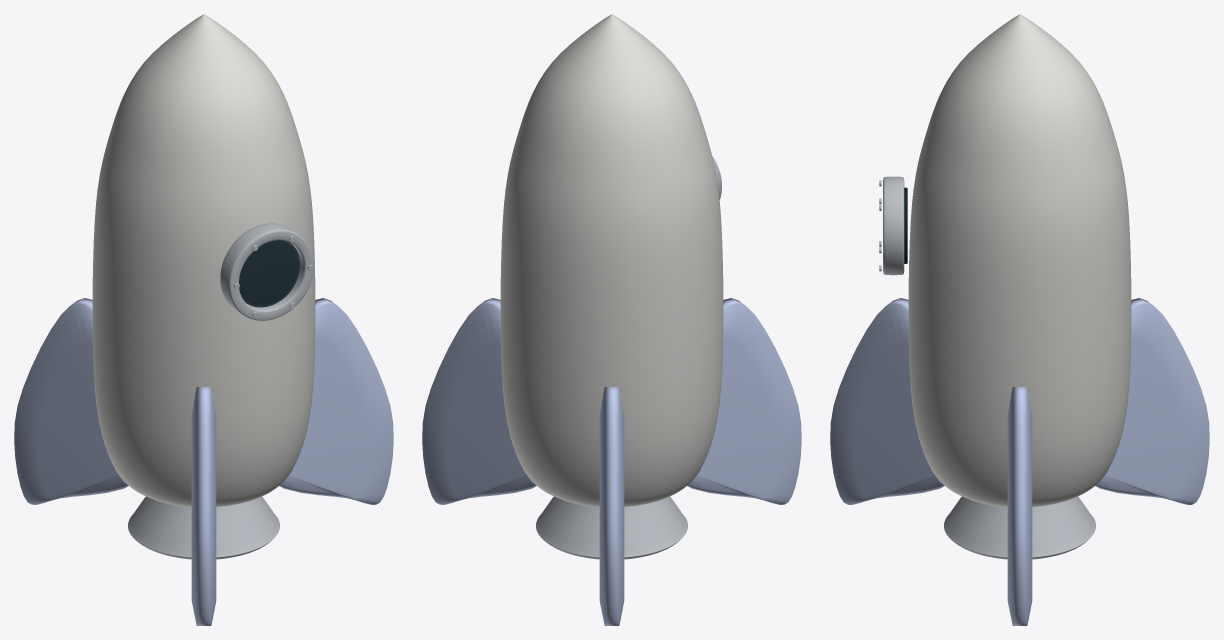
The model's file is little-rocket.glb.
3 renders of one model, left to right at view 1: azimuth 30°, elevation 25°; view 2: azimuth 150°, elevation 25°; view 3: azimuth 270°, elevation 25°, orthographic.
Visible parts, largest first — view 1: sculpted-surface (×2), soft-sculpted-landing-fin (×3), machined-annular-ring, complete-lifting-rocket-016; view 2: sculpted-surface (×2), soft-sculpted-landing-fin (×3); view 3: sculpted-surface (×2), soft-sculpted-landing-fin (×3), machined-annular-ring.
Part boxes in pixels (x1=…): sculpted-surface (×2): x1=92, y1=14, x2=315, y2=559; soft-sculpted-landing-fin (×3): x1=14, y1=298, x2=393, y2=625; machined-annular-ring: x1=220, y1=223, x2=313, y2=320; complete-lifting-rocket-016: x1=239, y1=240, x2=300, y2=307; sculpted-surface (×2): x1=500, y1=14, x2=723, y2=559; soft-sculpted-landing-fin (×3): x1=422, y1=298, x2=801, y2=625; sculpted-surface (×2): x1=908, y1=14, x2=1131, y2=559; soft-sculpted-landing-fin (×3): x1=830, y1=298, x2=1209, y2=625; machined-annular-ring: x1=883, y1=176, x2=904, y2=275.
Size of the model in its own units: 1.12 by 1.99 by 1.29.
